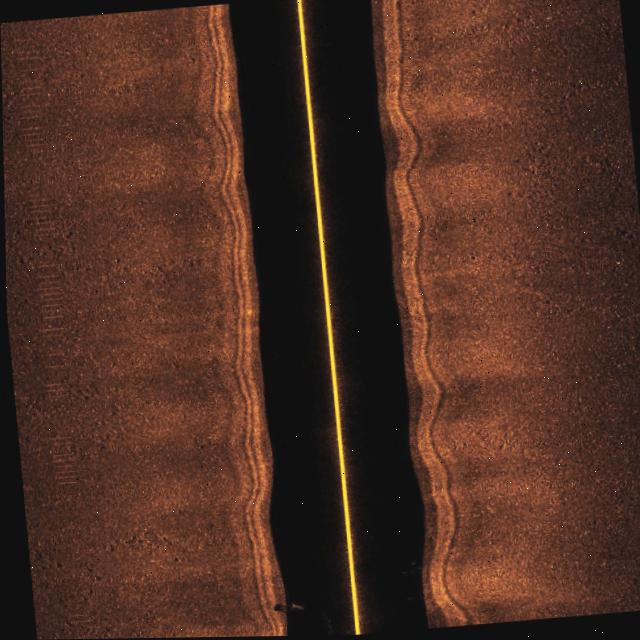other: (265, 598, 301, 616)
